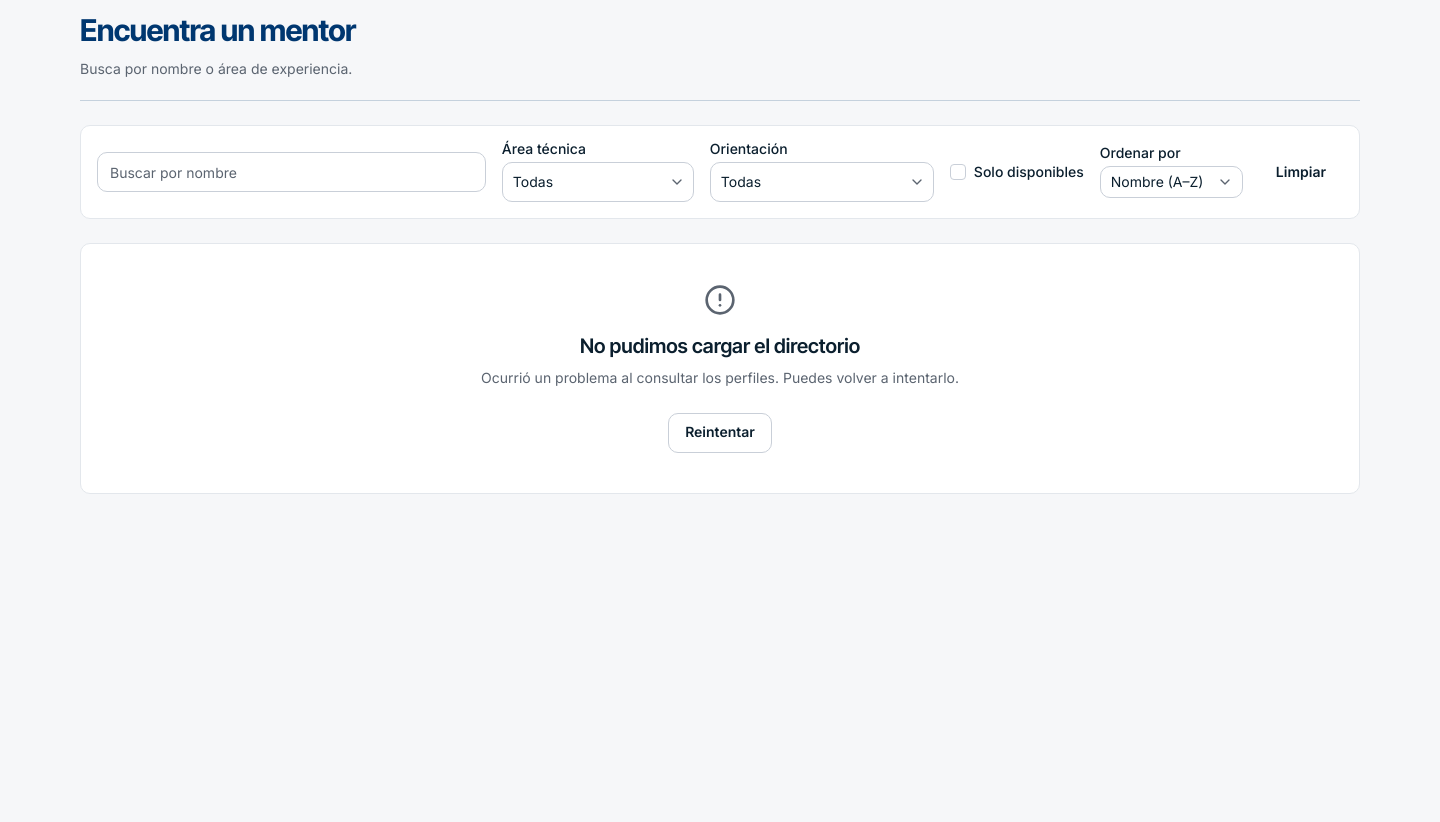
Scenario: MentorDirectoryView › muestra el error y Reintentar vuelve a consultar el directorio
The width and height of the screenshot is (1440, 822).
Expected: the message shows "No pudimos cargar el directorio", left=580, top=334, right=860, bottom=358
Click the button "Reintentar" at x=720, y=432, box left=668, top=412, right=772, bottom=452
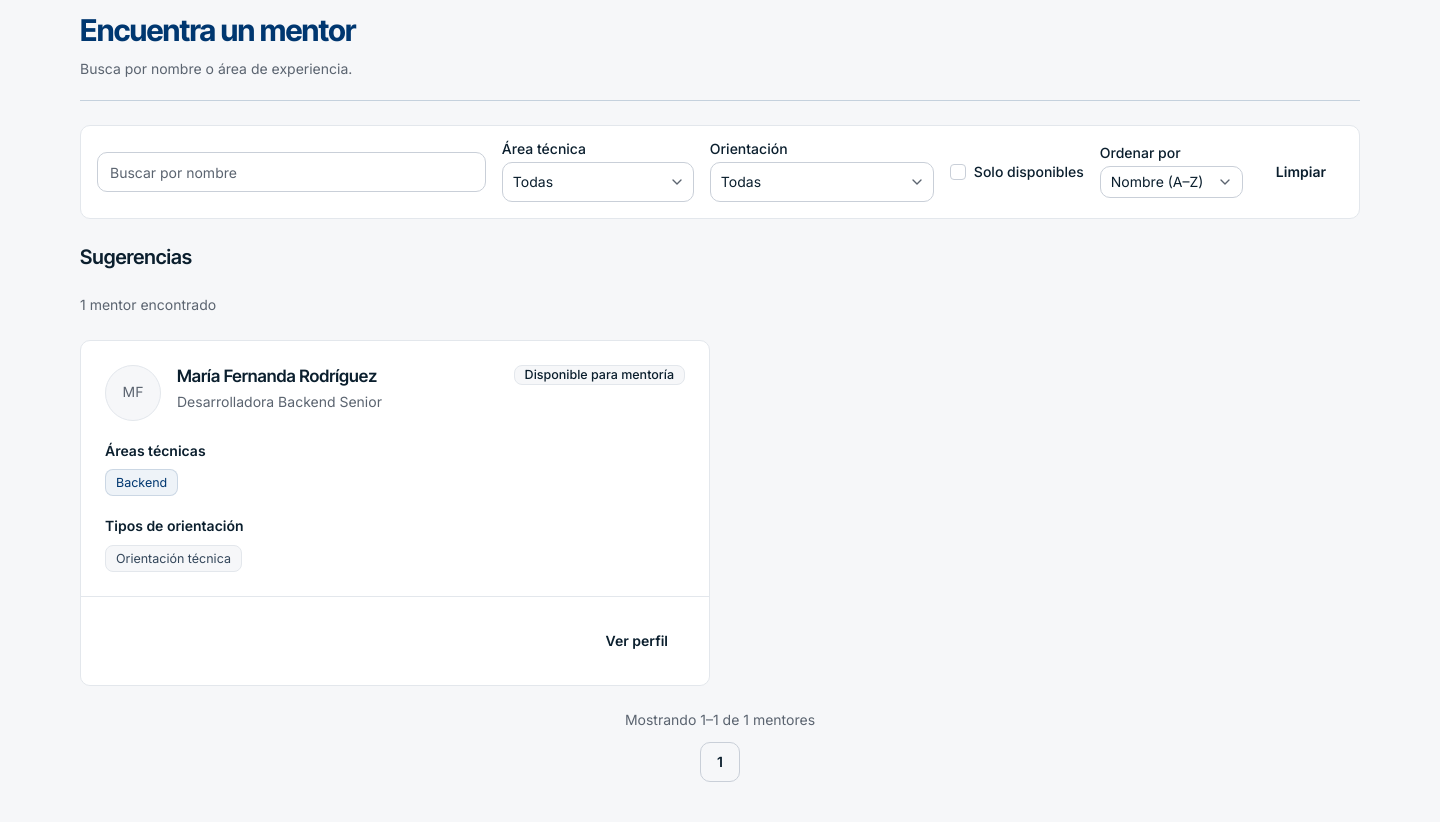
Result: the link with aria-label "Ver perfil de María" is shown at left=606, top=632, right=668, bottom=649
